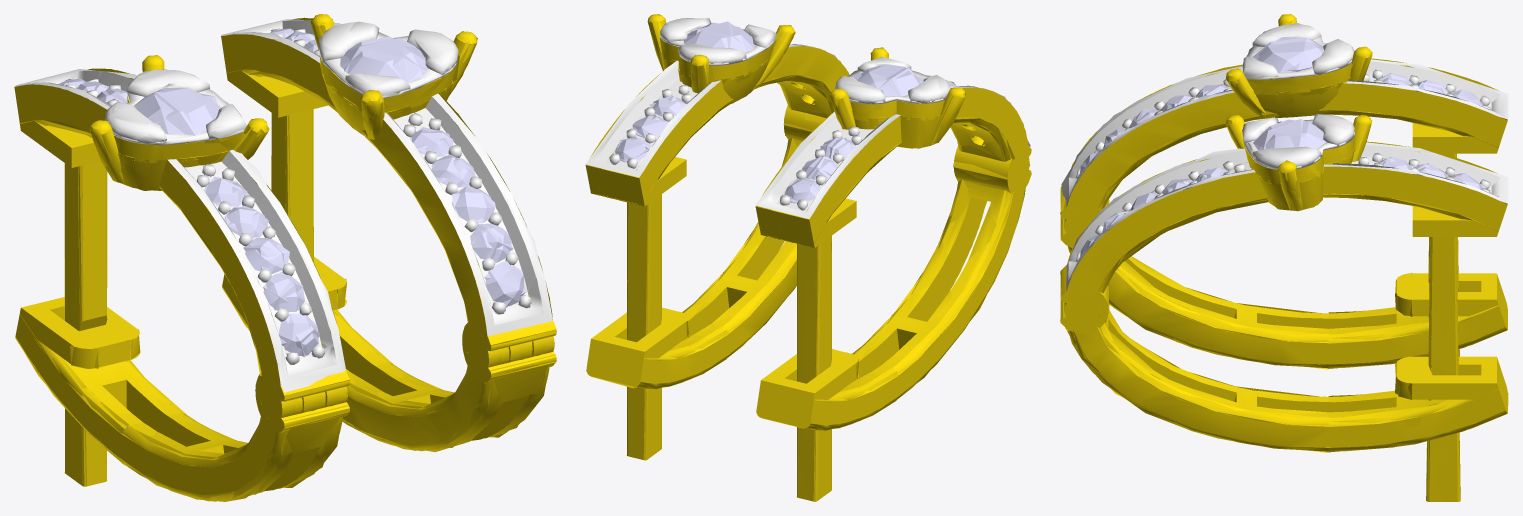
3 views of the same model, side by side, from view 1: azimuth 30°, elevation 25°; view 2: azimuth 150°, elevation 25°; view 3: azimuth 270°, elevation 25° (orthographic). The views are drawn at different scales.
Visible parts, largest first — view 1: highPolyMesh, lowPolyMesh; view 2: highPolyMesh, lowPolyMesh; view 3: highPolyMesh, lowPolyMesh.
Boxes of the visible parts, x1,y1,x2,y2 form: highPolyMesh: (15, 14, 556, 501); lowPolyMesh: (14, 15, 556, 501); highPolyMesh: (586, 14, 1031, 501); lowPolyMesh: (585, 14, 1031, 501); highPolyMesh: (1060, 14, 1507, 501); lowPolyMesh: (1060, 14, 1508, 501).
Bounding box in the file's own units: 0.0141 × 0.0158 × 0.0172.
